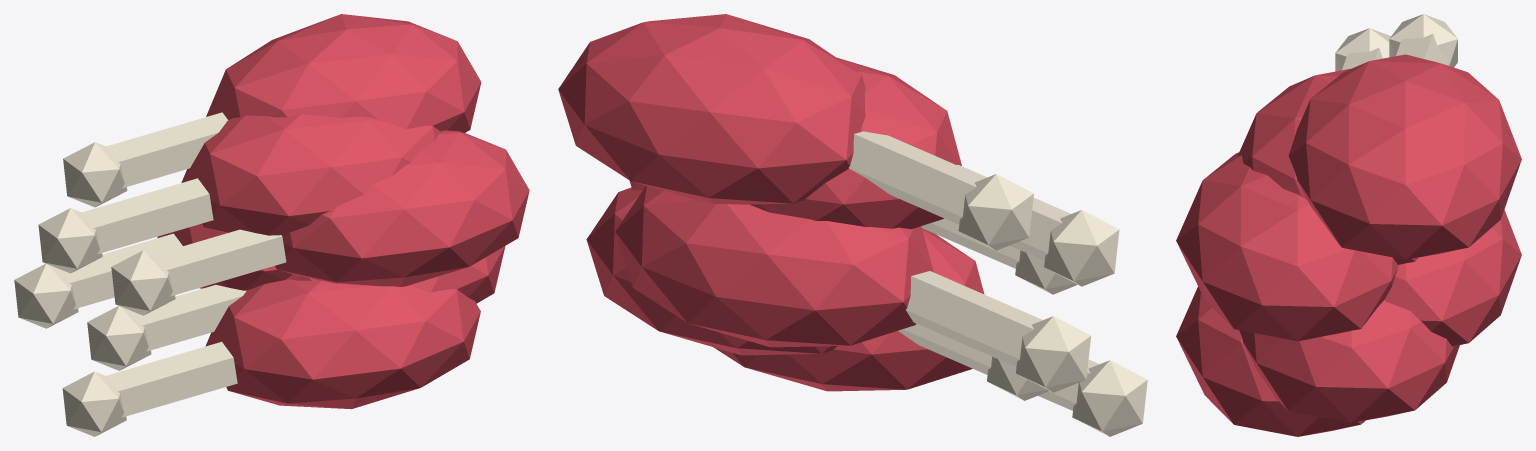
Rendered from item_048_smoked_meat_l.glb.
The picture shows the model from 3 angles, left to right: view 1: azimuth 30°, elevation 25°; view 2: azimuth 150°, elevation 25°; view 3: azimuth 270°, elevation 25°; orthographic projection. The views are drawn at different scales.
Parts seen in each view (by area): view 1: item_048_smoked_meat_l; view 2: item_048_smoked_meat_l; view 3: item_048_smoked_meat_l.
Boxes of the visible parts, x1,y1,x2,y2 form: item_048_smoked_meat_l: [14, 14, 529, 436]; item_048_smoked_meat_l: [558, 14, 1147, 436]; item_048_smoked_meat_l: [1176, 14, 1521, 436].
Size of the model in its own units: 0.6349 by 0.436 by 0.3847.
